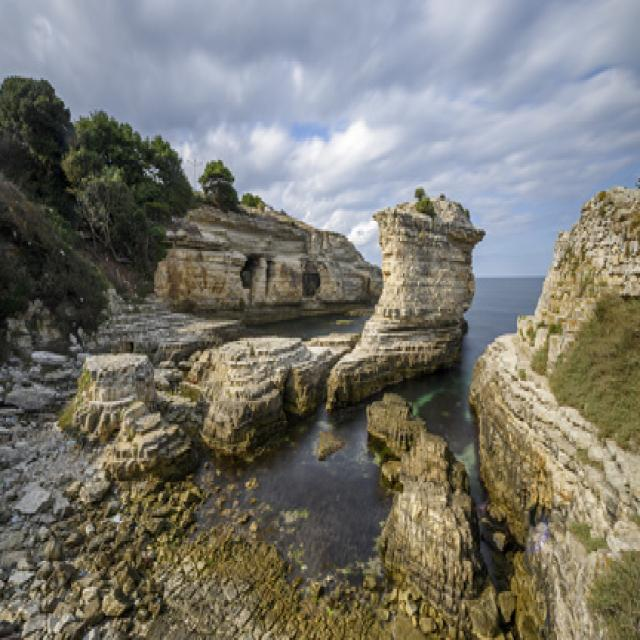reef: (111, 226, 494, 545)
